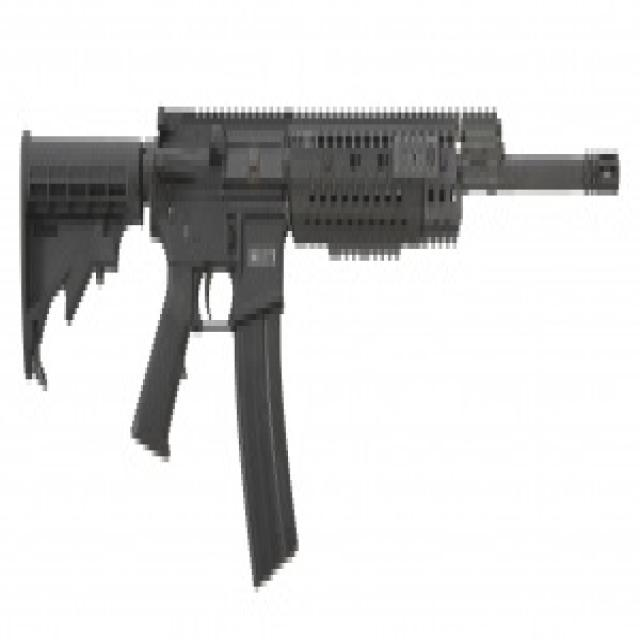rifle: (13, 79, 623, 596)
